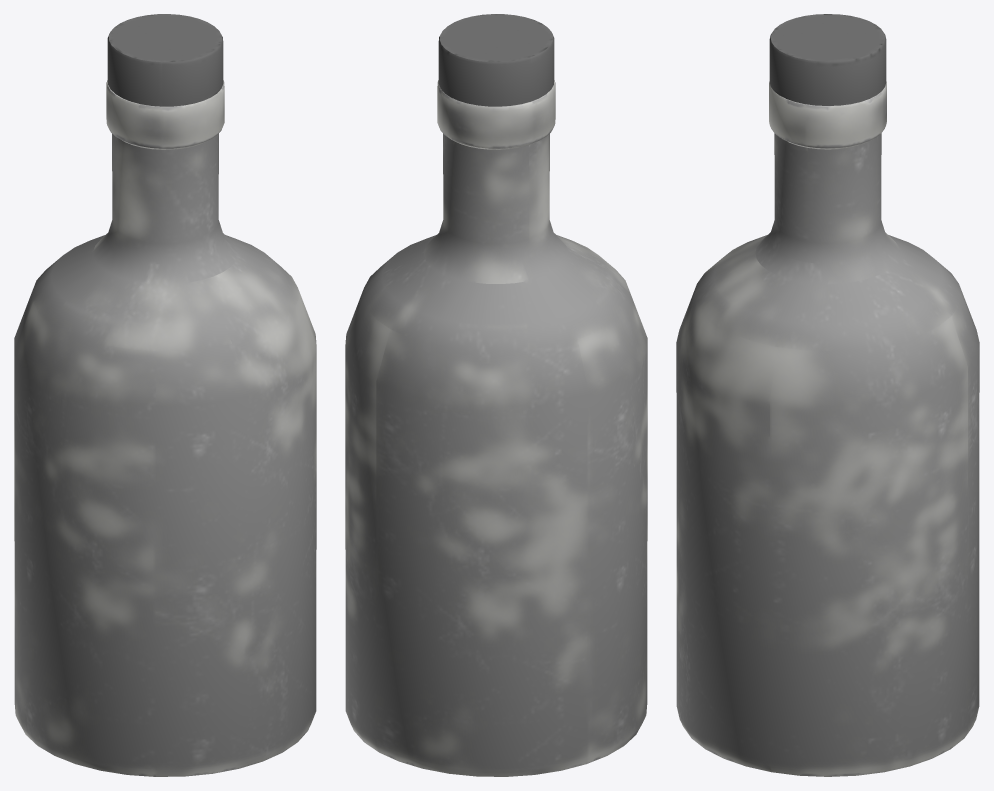
Rendered from Gin 1 .fbx.
The picture shows the model from 3 angles, left to right: view 1: azimuth 30°, elevation 25°; view 2: azimuth 150°, elevation 25°; view 3: azimuth 270°, elevation 25°; orthographic projection.
Parts seen in each view (by area): view 1: Cylinder.002; view 2: Cylinder.002; view 3: Cylinder.002.
Boxes of the visible parts, box(x1,y1,x2,y2) form: Cylinder.002: box(14, 14, 316, 776); Cylinder.002: box(345, 14, 647, 776); Cylinder.002: box(676, 14, 979, 776).
Size of the model in its own units: 14.68 by 36.34 by 14.68.
